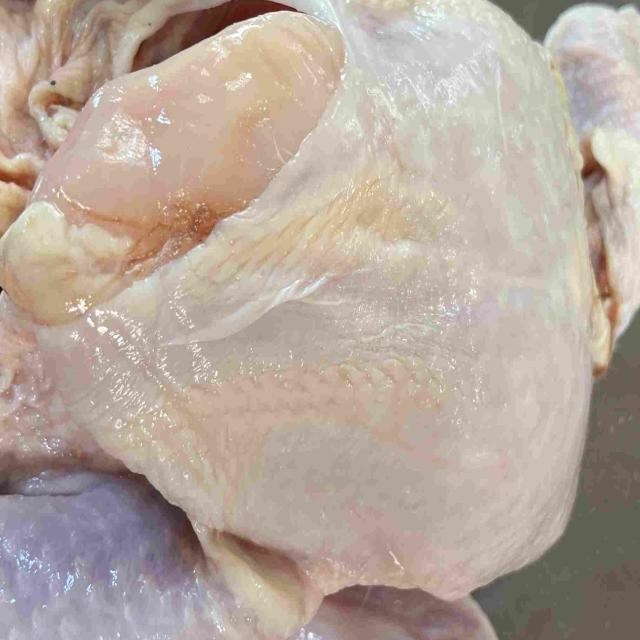breast: (2, 0, 591, 579)
leg: (0, 463, 310, 640)
neck: (547, 2, 640, 381)
wing: (284, 577, 498, 640)
